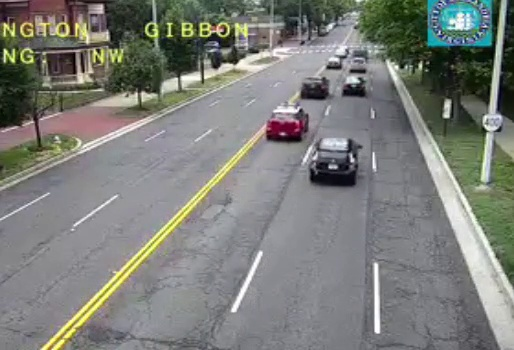car: (310, 138, 358, 178), (266, 107, 308, 138), (300, 77, 328, 97), (342, 76, 365, 95)
